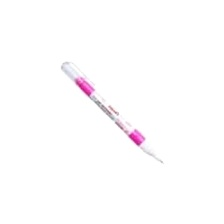correction_fluid: (59, 57, 170, 171)
